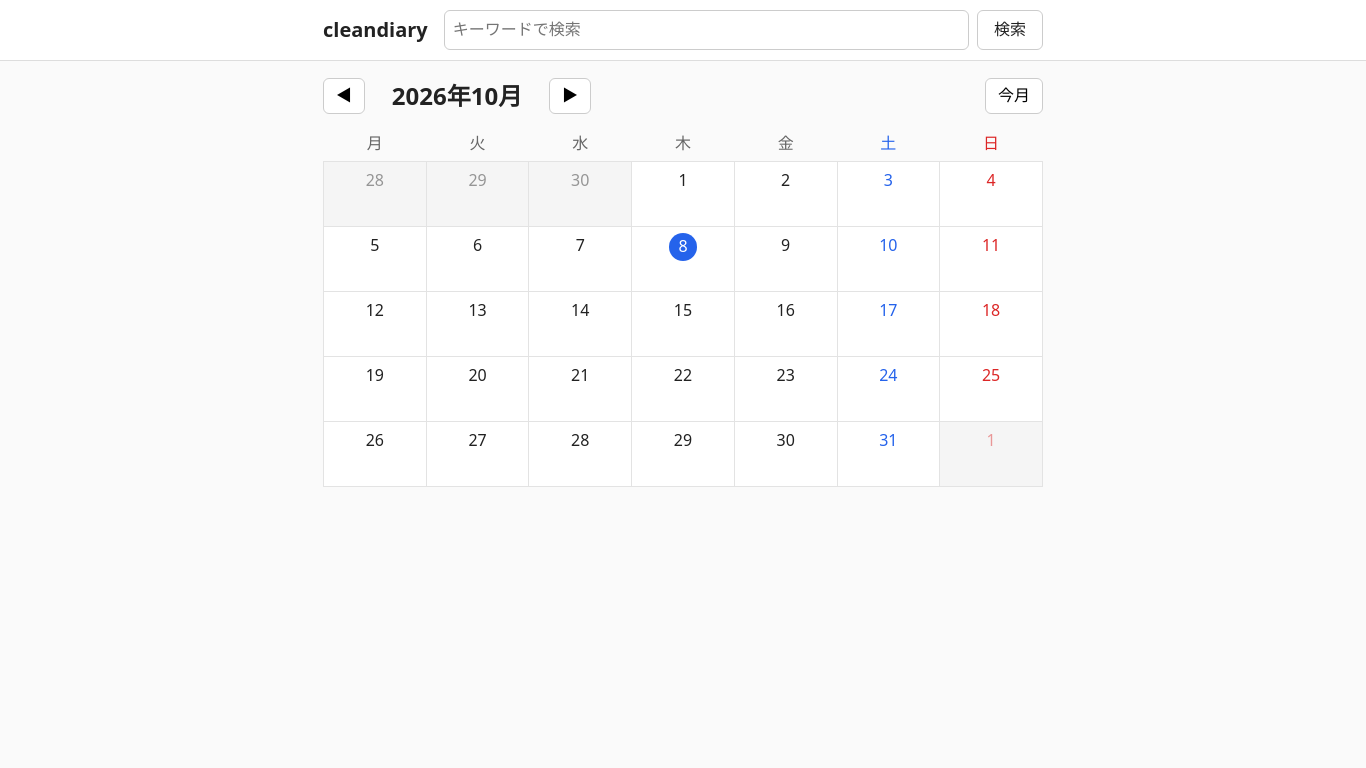
Test case: カレンダー画面 › 前の月・次の月・今月に切り替えられる
Click the button named "前の月": (344, 96) x1=323 y1=78 x2=365 y2=114
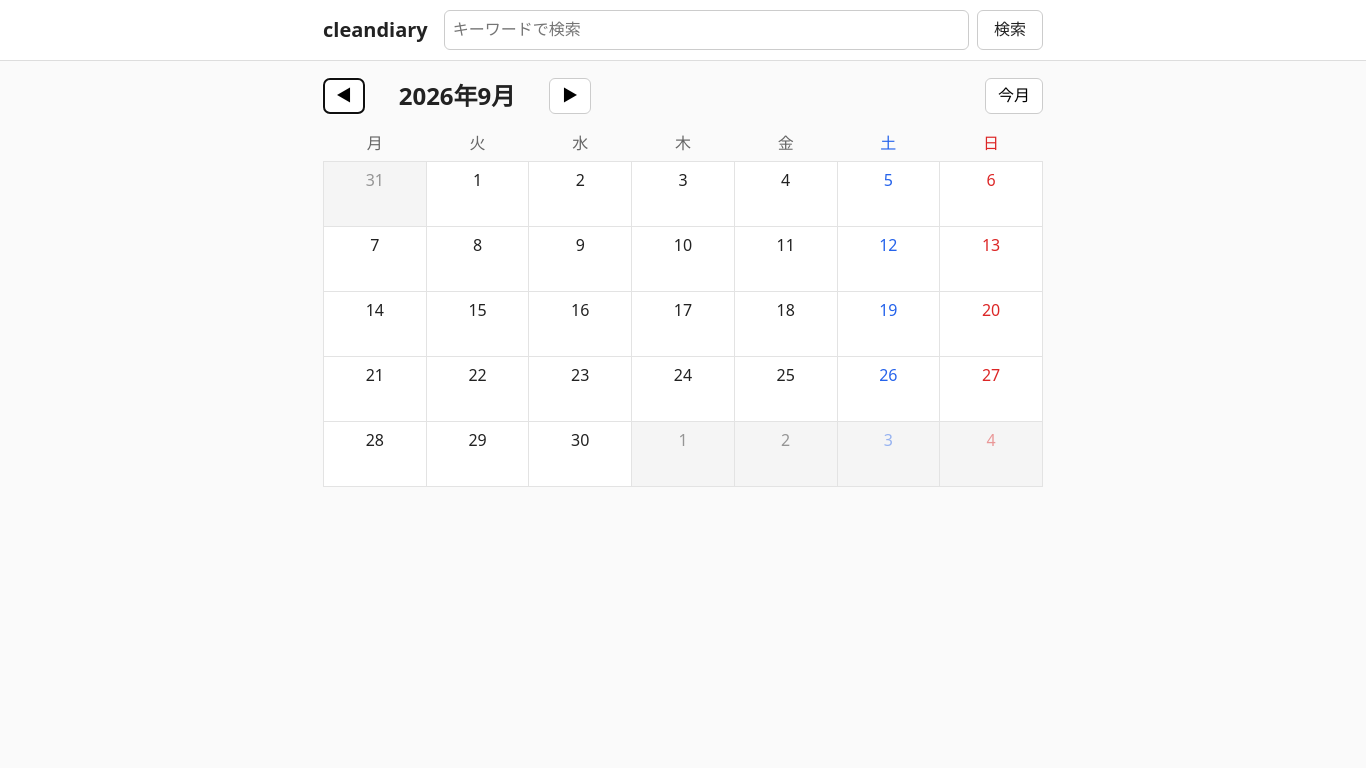
Now the heading "2026年9月" is shown, box x1=399 y1=79 x2=515 y2=112
Click the button named "次の月": (570, 96) x1=549 y1=78 x2=591 y2=114
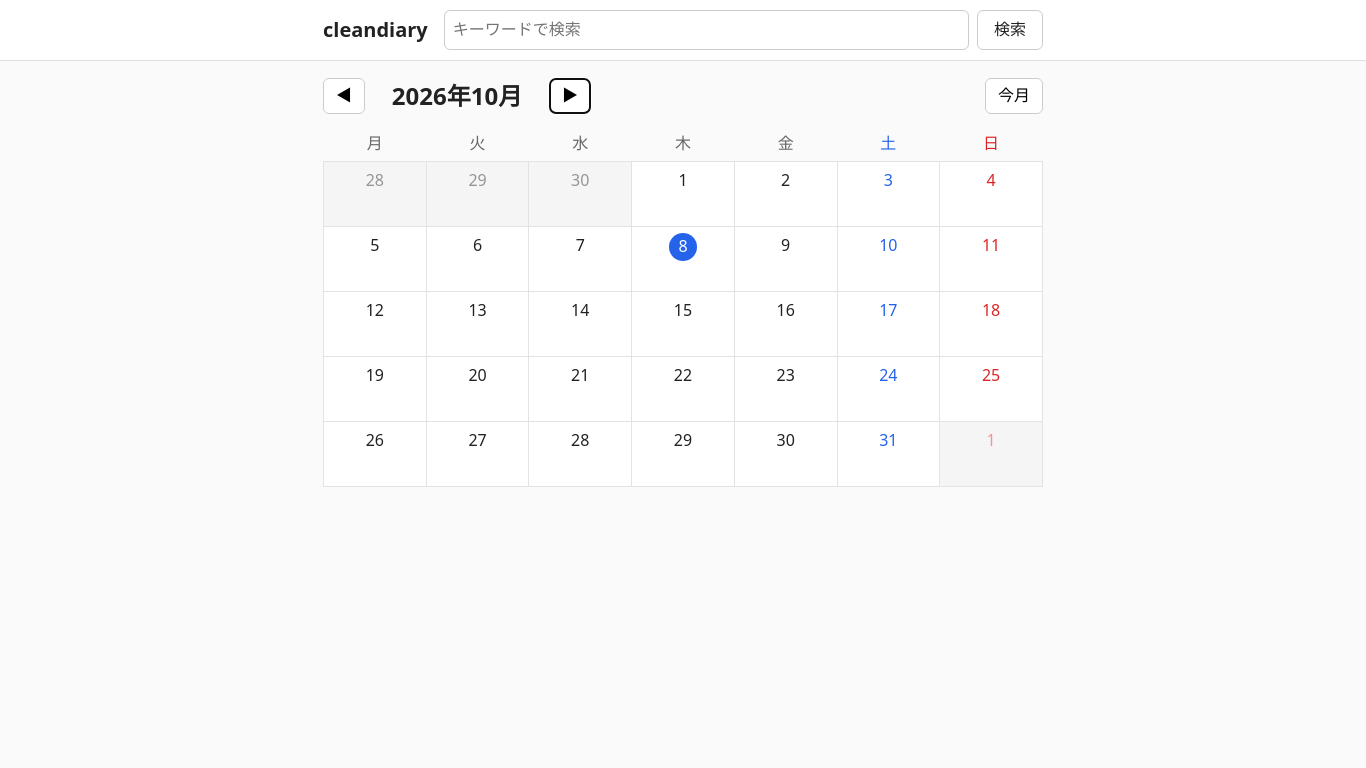
Click the button named "次の月": (570, 96) x1=549 y1=78 x2=591 y2=114
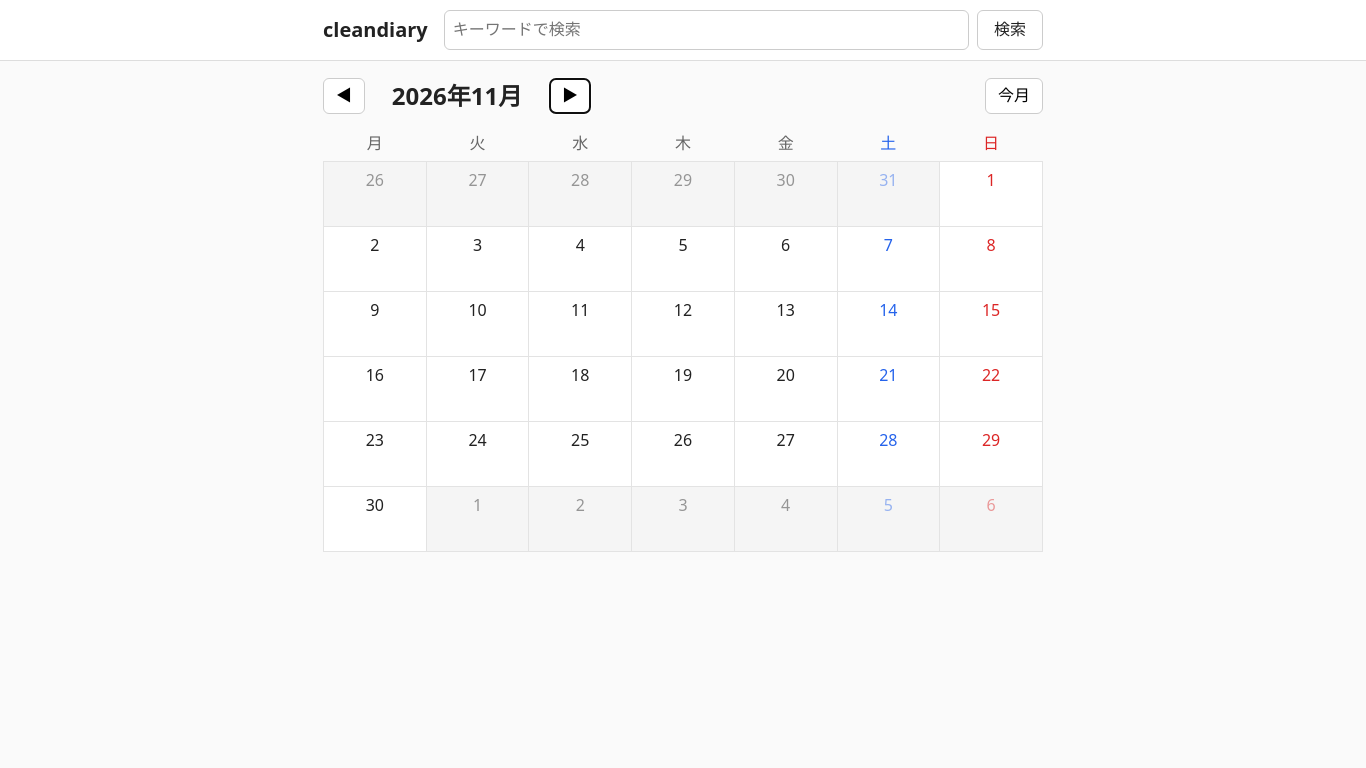
Click the button named "次の月": (570, 96) x1=549 y1=78 x2=591 y2=114
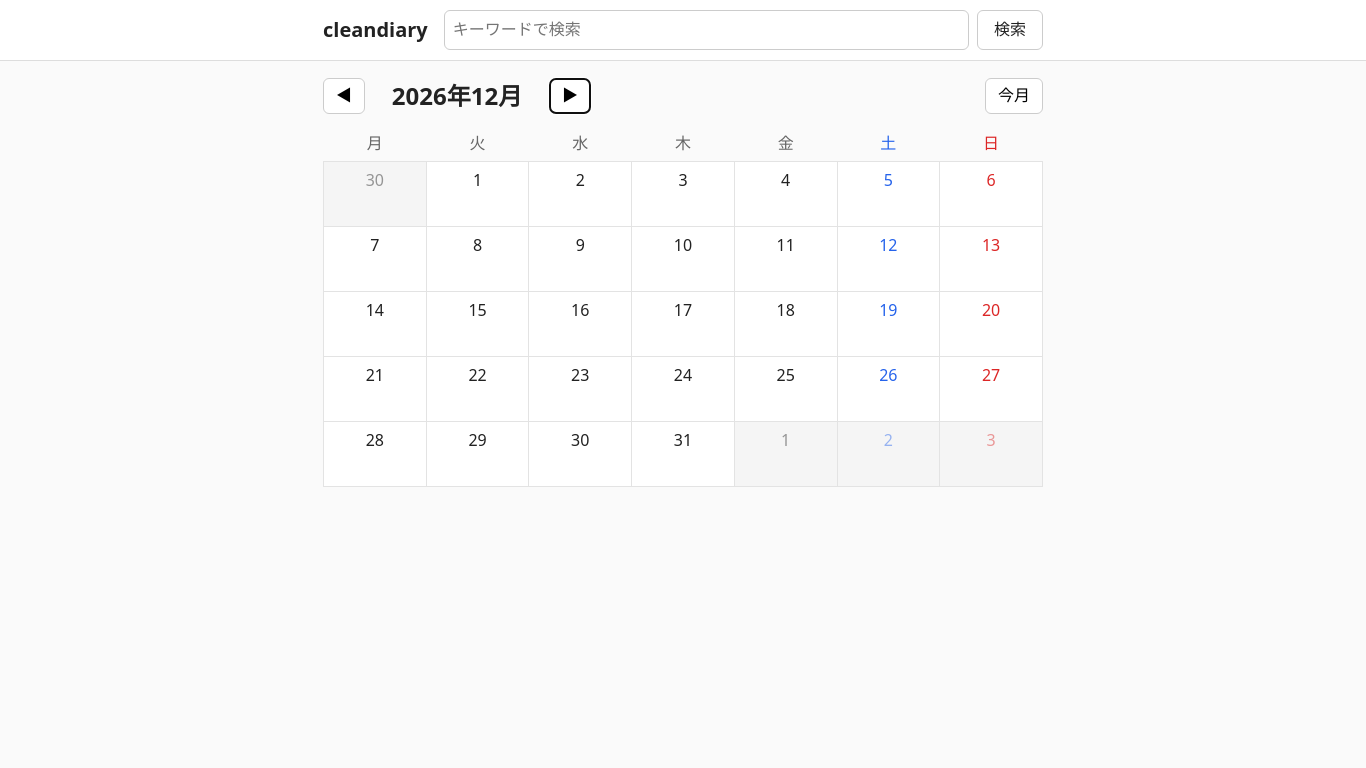
Now the heading "2026年12月" is shown, box x1=392 y1=79 x2=522 y2=112
Click the button named "次の月": (570, 96) x1=549 y1=78 x2=591 y2=114
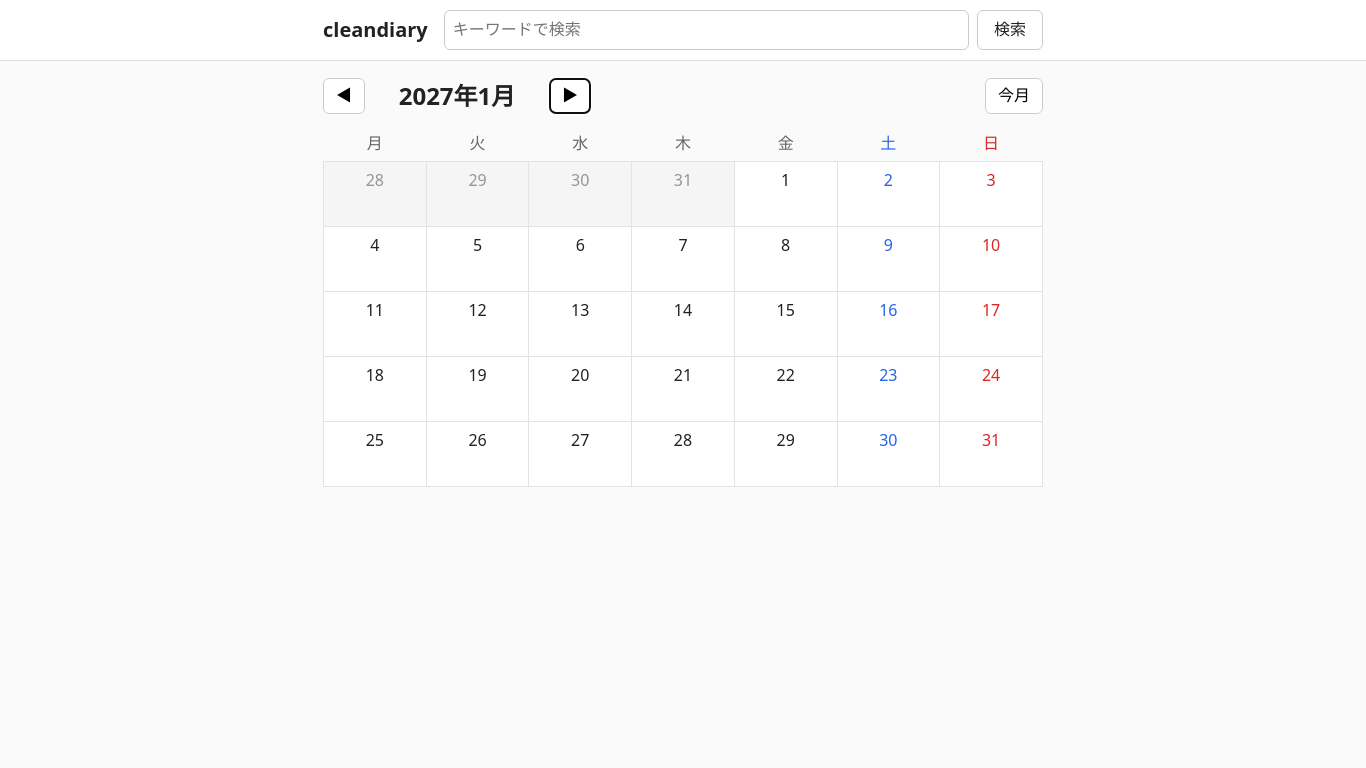
Now the heading "2027年1月" is shown, box x1=399 y1=79 x2=515 y2=112
Click the button "今月": (1014, 96) x1=985 y1=78 x2=1043 y2=114
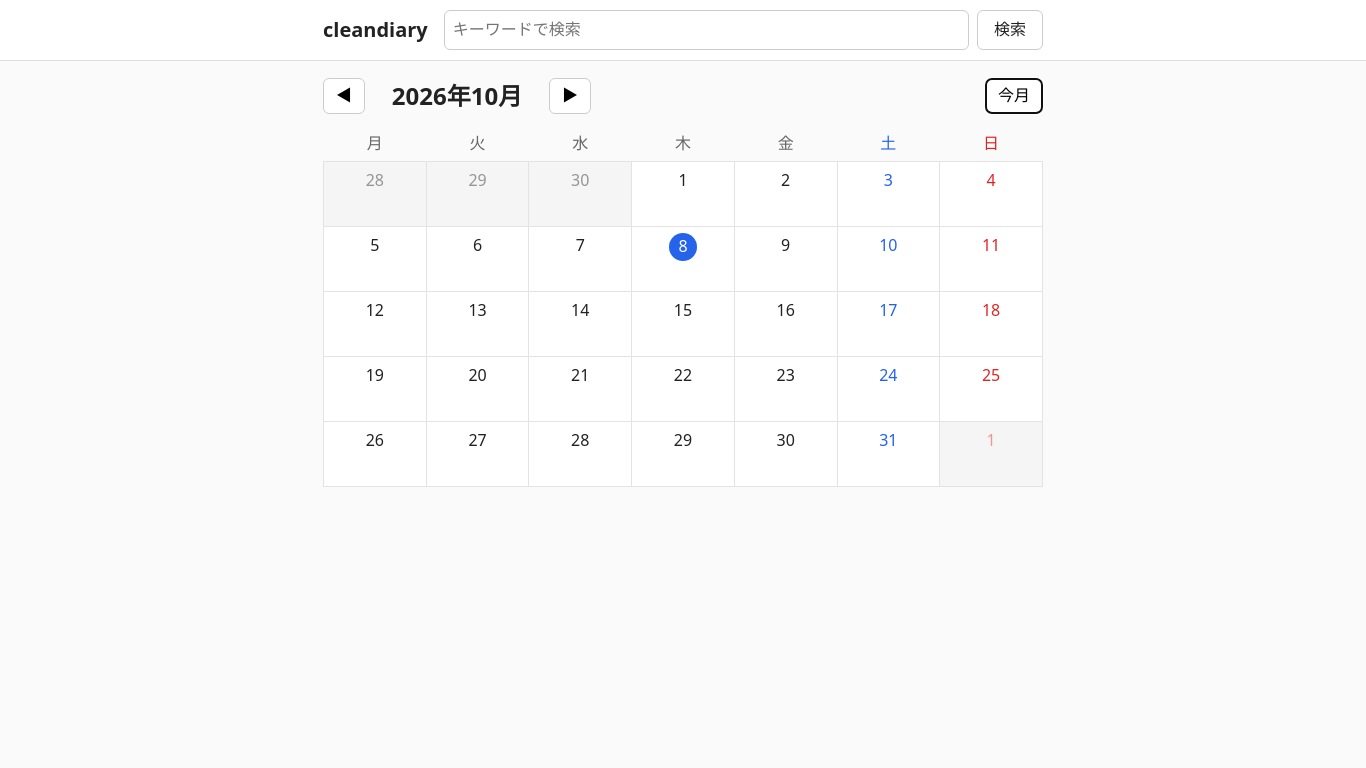
Now the heading "2026年10月" is shown, box x1=392 y1=79 x2=522 y2=112
